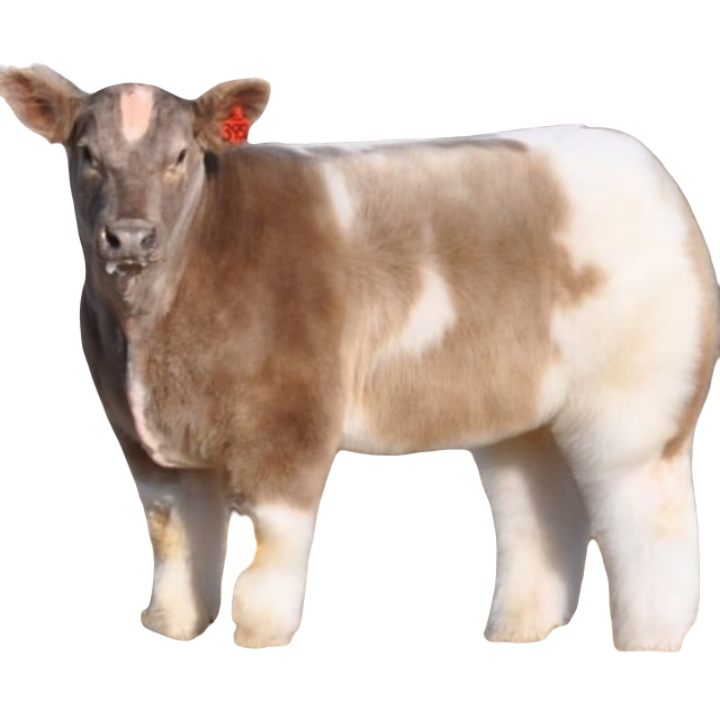Cow: (1, 62, 714, 654)
